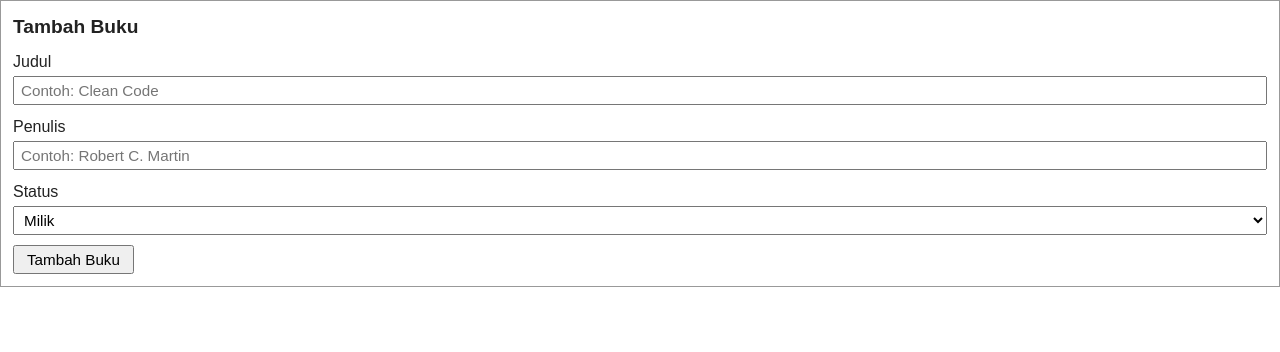
BookForm › menampilkan pesan error bila kolom wajib kosong
This screenshot has width=1280, height=352.
Click the button "Tambah Buku" at (73, 259), box [13,245,134,274]
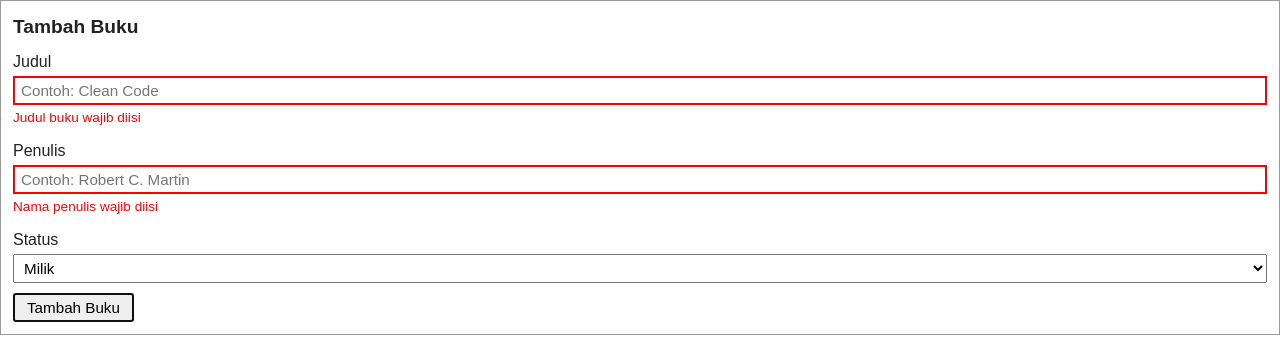
Now the text "Judul buku wajib diisi" is shown, box [13,110,141,125]
Now the text "Nama penulis wajib diisi" is shown, box [13,199,158,214]
